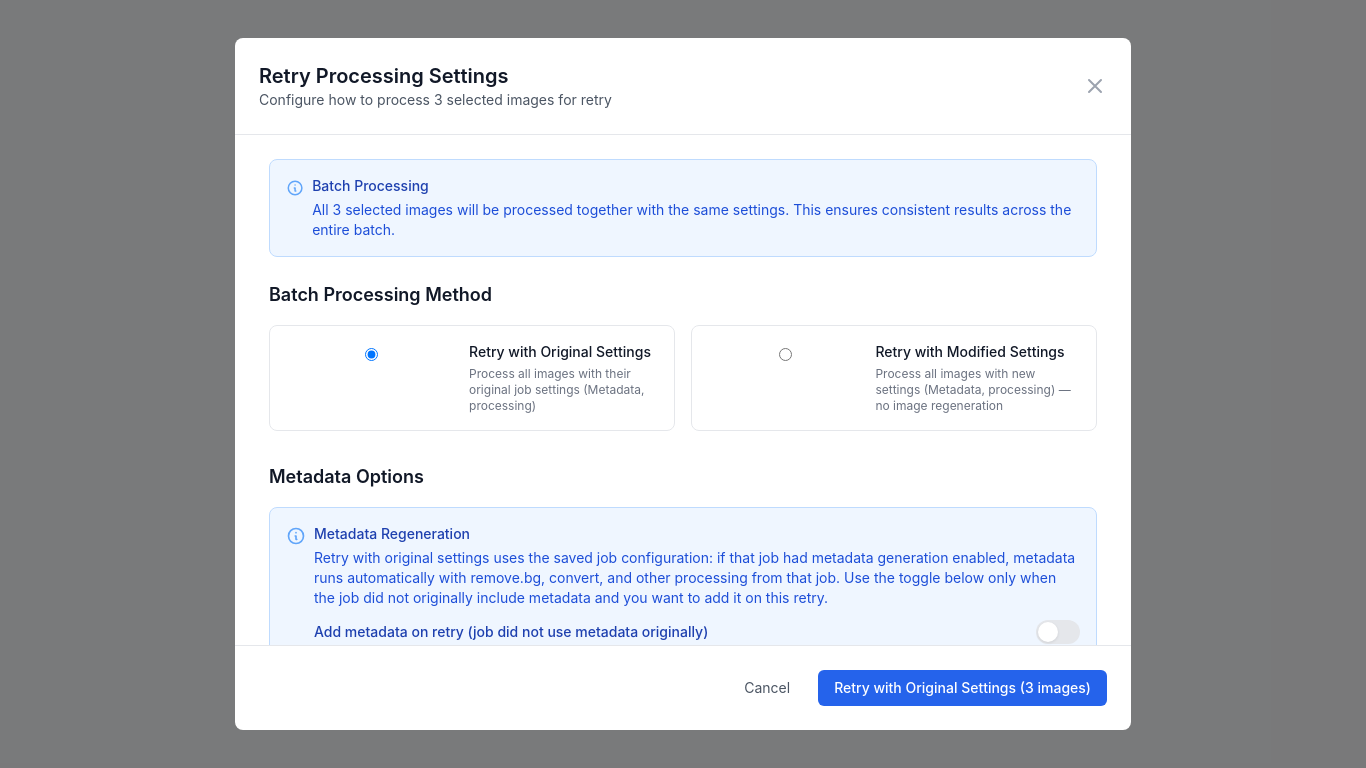
ProcessingSettingsModal › Settings Choice Section › switches selection when radio buttons are clicked
The image size is (1366, 768).
Check: the radio button labelled "Retry with Original Settings" is checked, box [286,348,457,361]
Note: Click modified radio
Click the radio button with aria-label "Retry with Modified Settings". click: (786, 355)
box: [708,348,863,361]
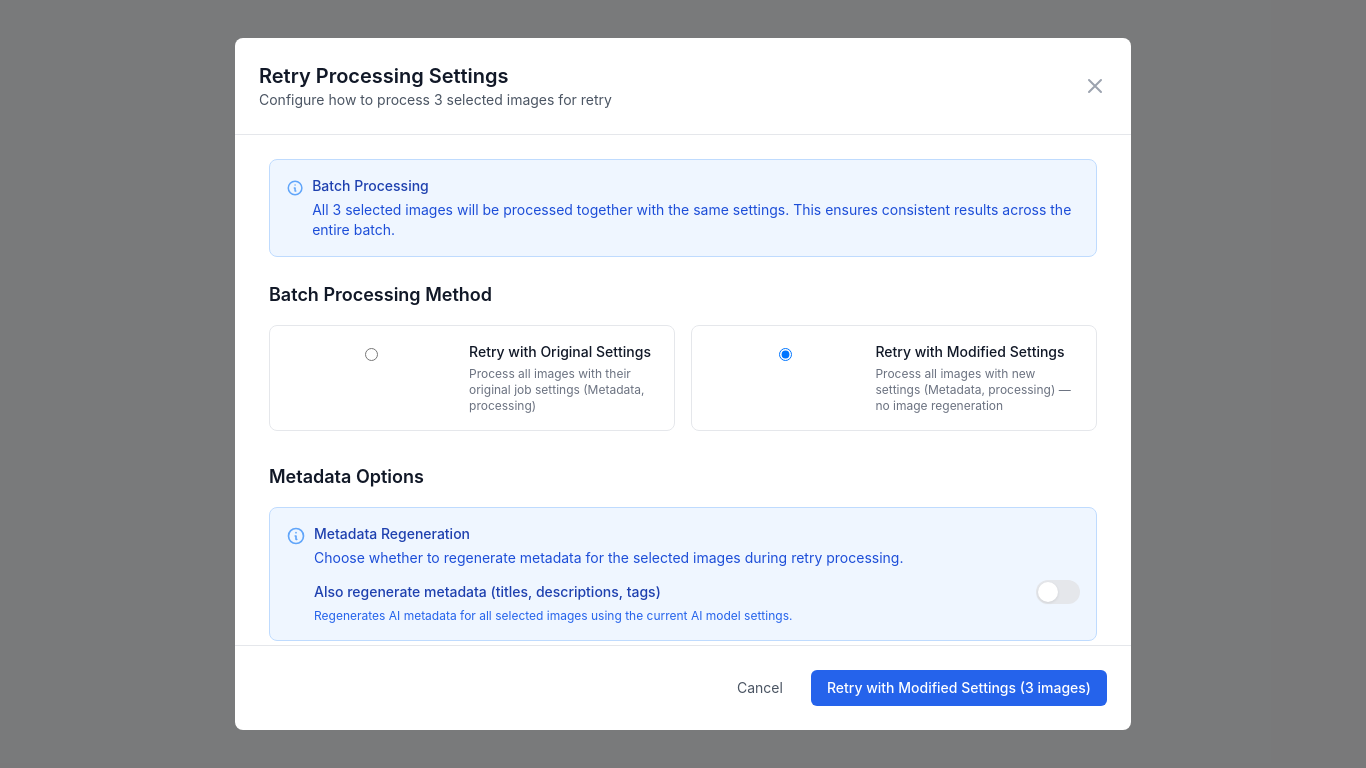
Check: the radio button with aria-label "Retry with Modified Settings" is checked, box [708,348,863,361]
Check: the radio button labelled "Retry with Original Settings" is not checked, box [286,348,457,361]
